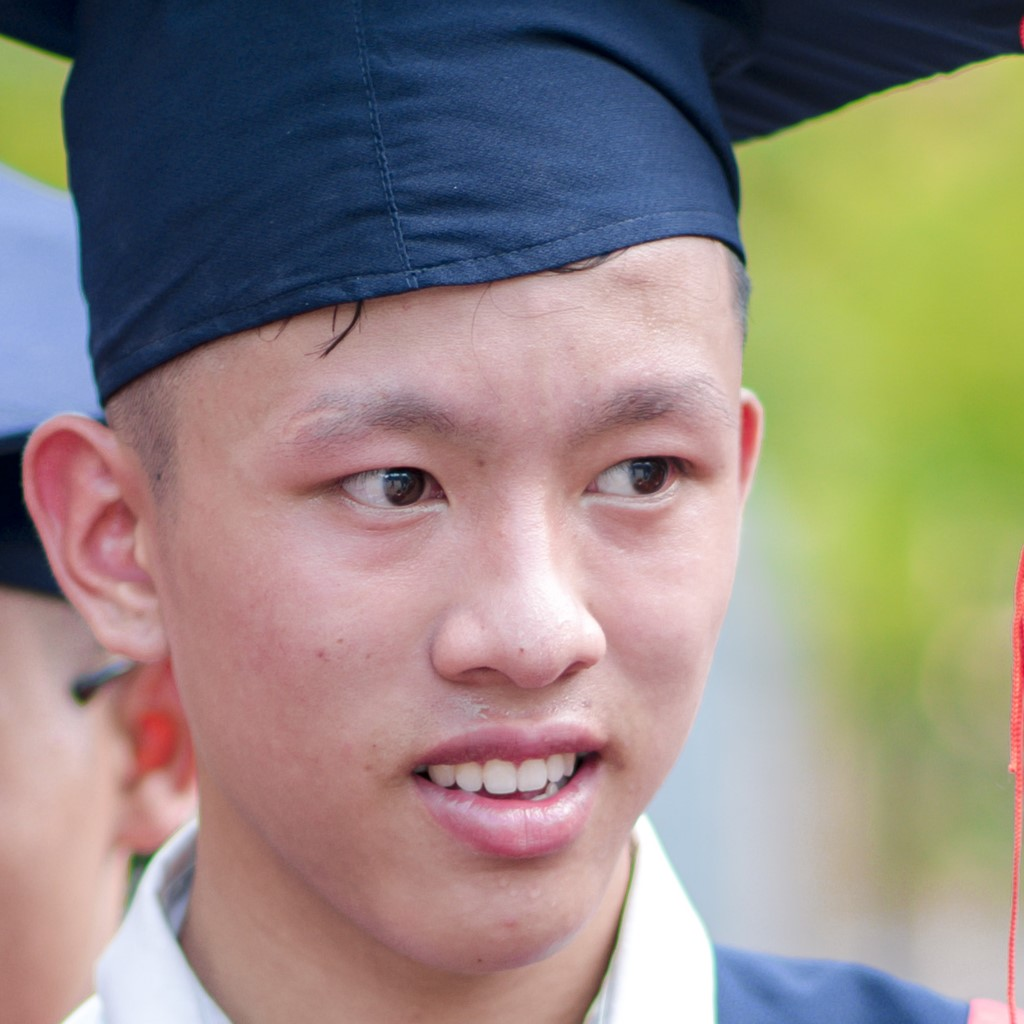sin_mascara: (69, 89, 774, 985)
